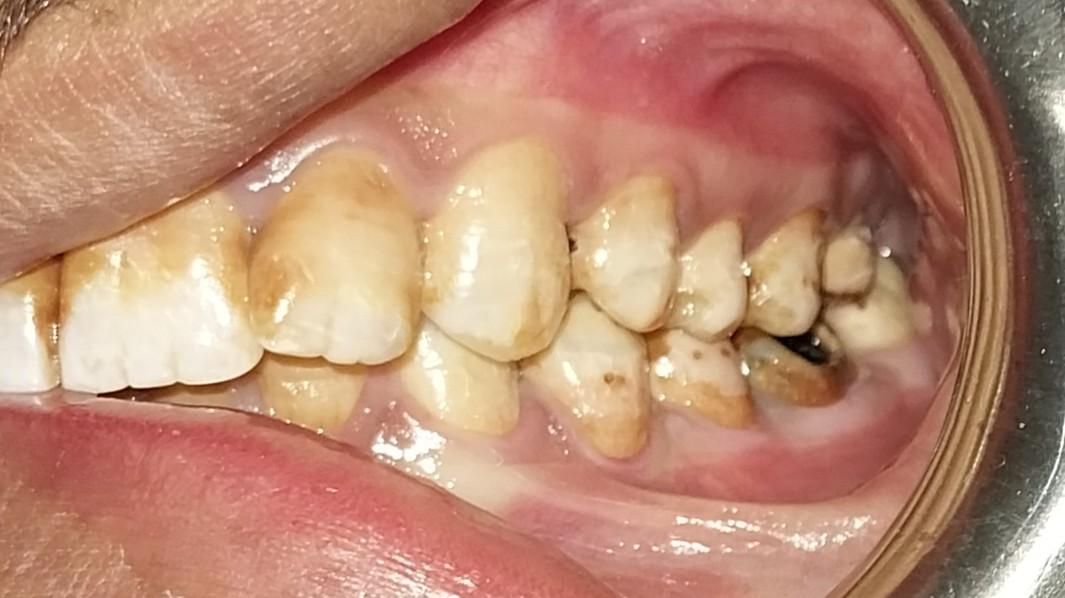D: (728, 315, 853, 410)
